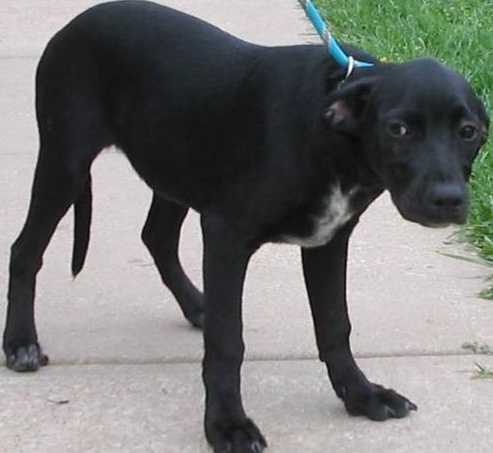Dog: (10, 0, 489, 396)
